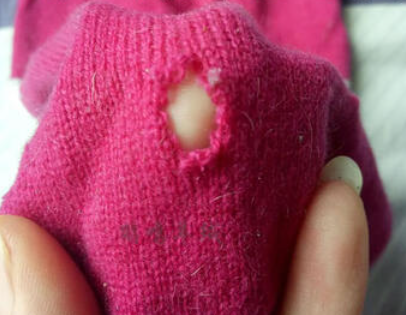hole_2: (158, 62, 226, 152)
